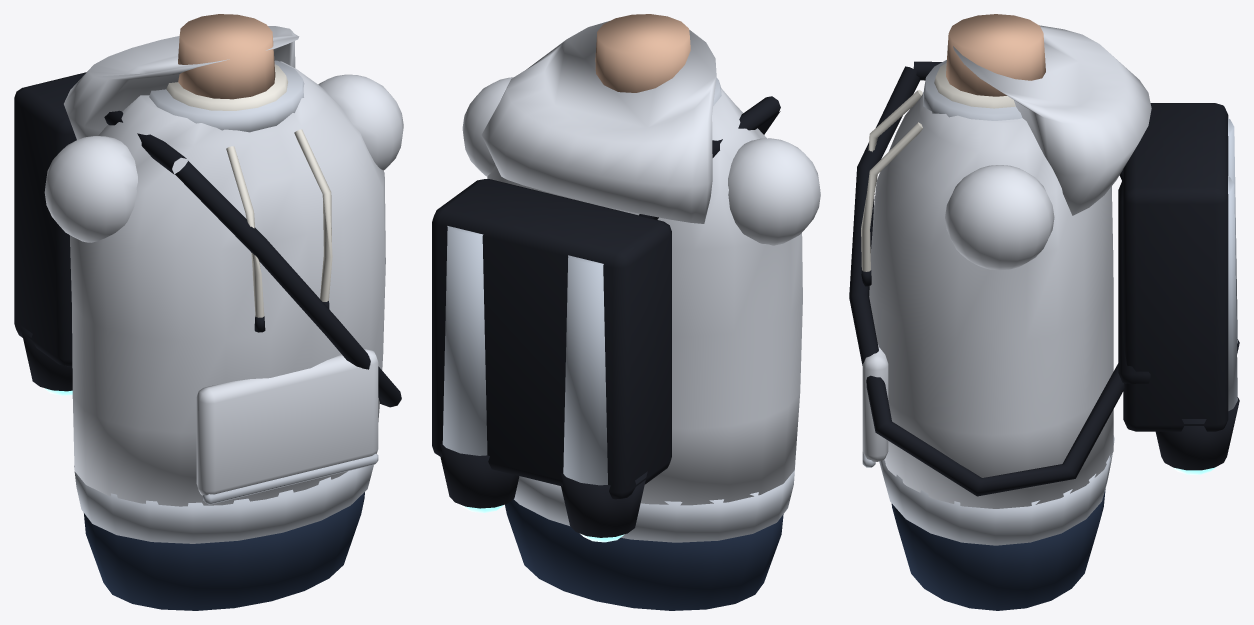
The model's file is coder_torso_jetpack.glb.
3 renders of one model, left to right at view 1: azimuth 30°, elevation 25°; view 2: azimuth 150°, elevation 25°; view 3: azimuth 270°, elevation 25°, orthographic.
Parts seen in each view (by area): view 1: CoderPart; view 2: CoderPart; view 3: CoderPart.
Part boxes in pixels (x1=…): CoderPart: x1=14, y1=14, x2=403, y2=610; CoderPart: x1=432, y1=14, x2=820, y2=610; CoderPart: x1=849, y1=14, x2=1239, y2=610.
Size of the model in its own units: 0.428 by 0.633 by 0.4279.
